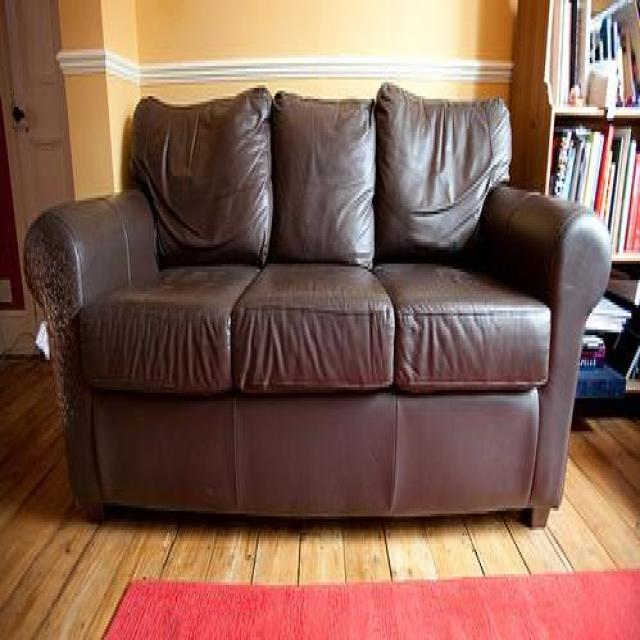sofa: (20, 81, 613, 536)
